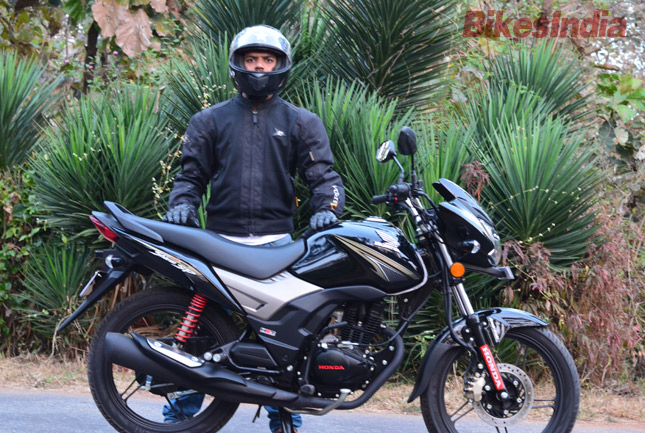helmet: (222, 26, 293, 92)
